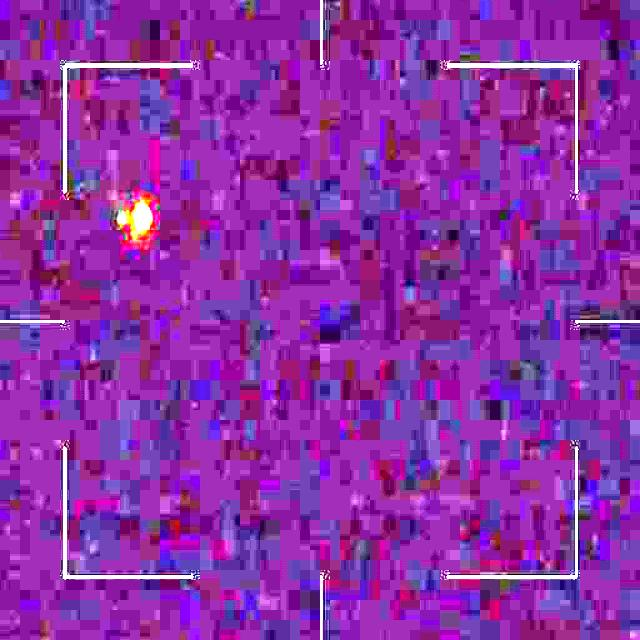bird: (116, 199, 156, 244)
